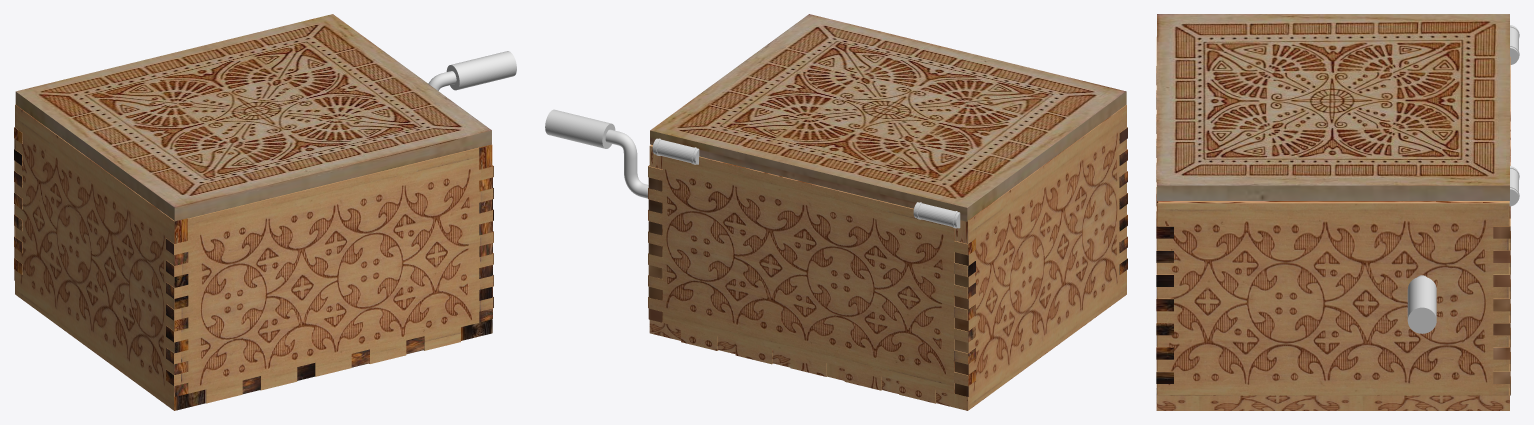
Rendered from music_box.fbx.
3 views of the same model, side by side, from view 1: azimuth 30°, elevation 25°; view 2: azimuth 150°, elevation 25°; view 3: azimuth 270°, elevation 25° (orthographic). The views are drawn at different scales.
Parts seen in each view (by area): view 1: Cube.002, Cube.005, Cube.001, Cube.015, Cylinder.006, Cube.016, Cube.008, Cube.009, Cube.007; view 2: Cube.003, Cube.005, Cube.001, Cube.004, Cylinder.006, Cube.011, Cylinder.007, Cube.010, Cube.007, Cylinder.005, Cylinder, Cube.009; view 3: Cube.005, Cube, Cube.004, Cube.012, Cube.014, Cylinder.006, Cube.003.
Boxes of the visible parts, <box> form: Cube.002: <box>167,147,493,403</box>; Cube.005: <box>15,14,491,221</box>; Cube.001: <box>15,104,174,409</box>; Cube.015: <box>174,319,492,410</box>; Cylinder.006: <box>446,51,516,90</box>; Cube.016: <box>479,144,492,300</box>; Cube.008: <box>174,252,188,396</box>; Cube.009: <box>14,127,22,274</box>; Cube.007: <box>166,238,174,385</box>; Cube.003: <box>648,156,975,403</box>; Cube.005: <box>650,14,1126,221</box>; Cube.001: <box>954,105,1126,409</box>; Cube.004: <box>649,294,1126,410</box>; Cylinder.006: <box>545,109,615,148</box>; Cube.011: <box>648,177,662,322</box>; Cylinder.007: <box>605,129,648,198</box>; Cube.010: <box>955,252,968,396</box>; Cube.007: <box>1119,127,1127,274</box>; Cylinder.005: <box>913,202,960,228</box>; Cylinder: <box>652,138,699,164</box>; Cube.009: <box>968,238,975,385</box>; Cube.005: <box>1157,14,1509,200</box>; Cube: <box>1157,201,1509,395</box>; Cube.004: <box>1157,388,1509,410</box>; Cube.012: <box>1493,226,1510,383</box>; Cube.014: <box>1156,226,1173,383</box>; Cylinder.006: <box>1407,276,1436,333</box>; Cube.003: <box>1493,56,1510,394</box>.
Bounding box in the file's own units: 156 × 66.56 × 96.94.
Materials: 4 (4 with a texture image).
